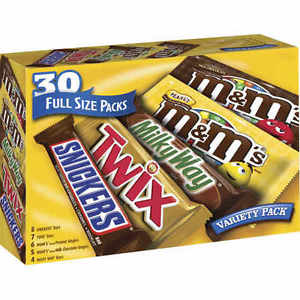snickers: (50, 140, 124, 230), (53, 140, 124, 230), (0, 195, 24, 246)
